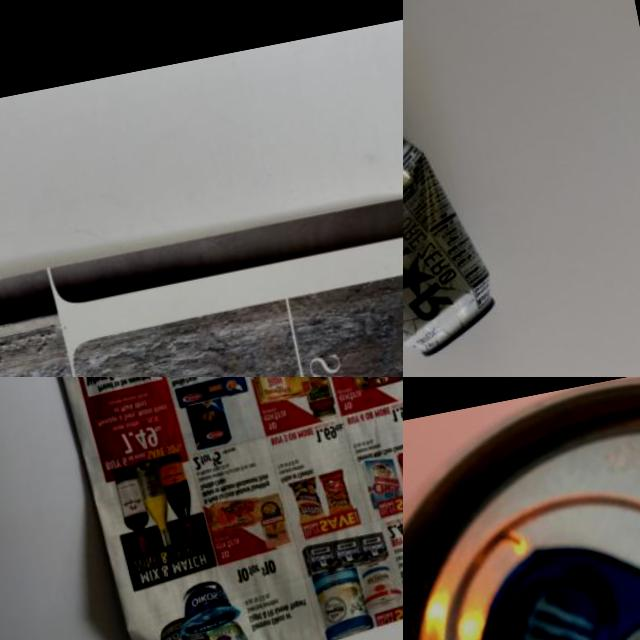aba de lata: (458, 506, 640, 640)
lata: (403, 377, 640, 640), (403, 77, 502, 377)
papel: (27, 377, 403, 640), (0, 180, 403, 377)
